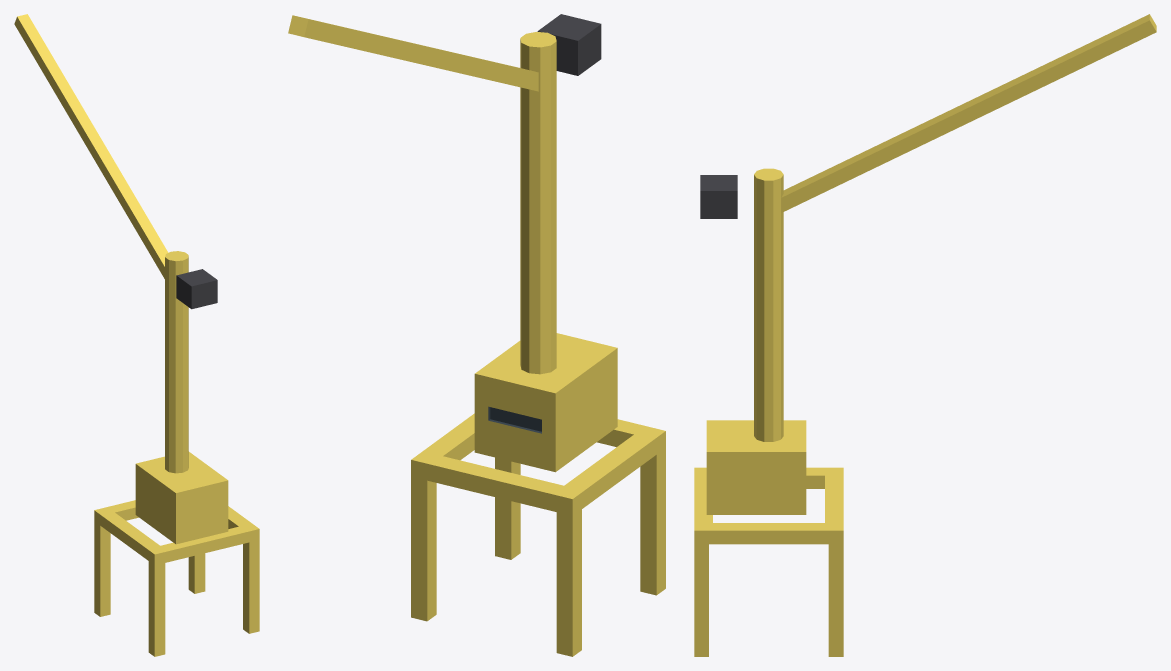
Rendered from crane_lod1.glb.
The picture shows the model from 3 angles, left to right: view 1: azimuth 30°, elevation 25°; view 2: azimuth 150°, elevation 25°; view 3: azimuth 270°, elevation 25°; orthographic projection. The views are drawn at different scales.
Parts seen in each view (by area): view 1: crane_lod1; view 2: crane_lod1; view 3: crane_lod1.
Part boxes in pixels (<box>): crane_lod1: <box>14,14,259,656</box>; crane_lod1: <box>288,14,665,656</box>; crane_lod1: <box>694,14,1156,656</box>.
Bounding box in the file's own units: 12 × 53.96 × 37.18.
